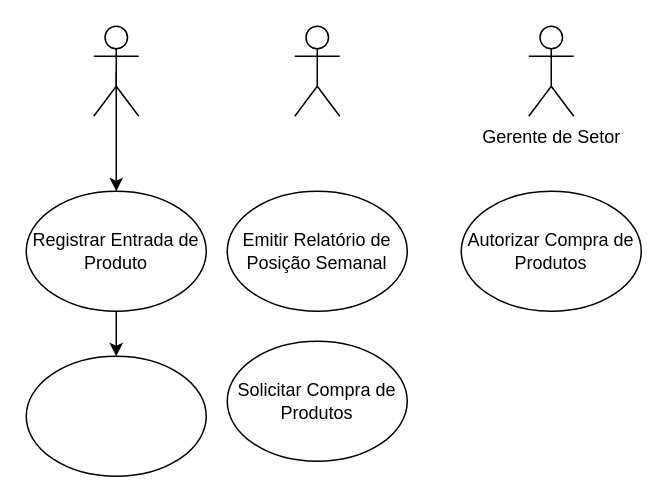
Some shapes in this 668 by 503 pixel diagram are drawn without their labels. The centre of each missing label's shape, as x and y in pixels:
"Estoquista" belongs at point (115, 70).
"Usuário" belongs at point (316, 70).
"Validar Nota Fiscal" belongs at point (115, 415).
